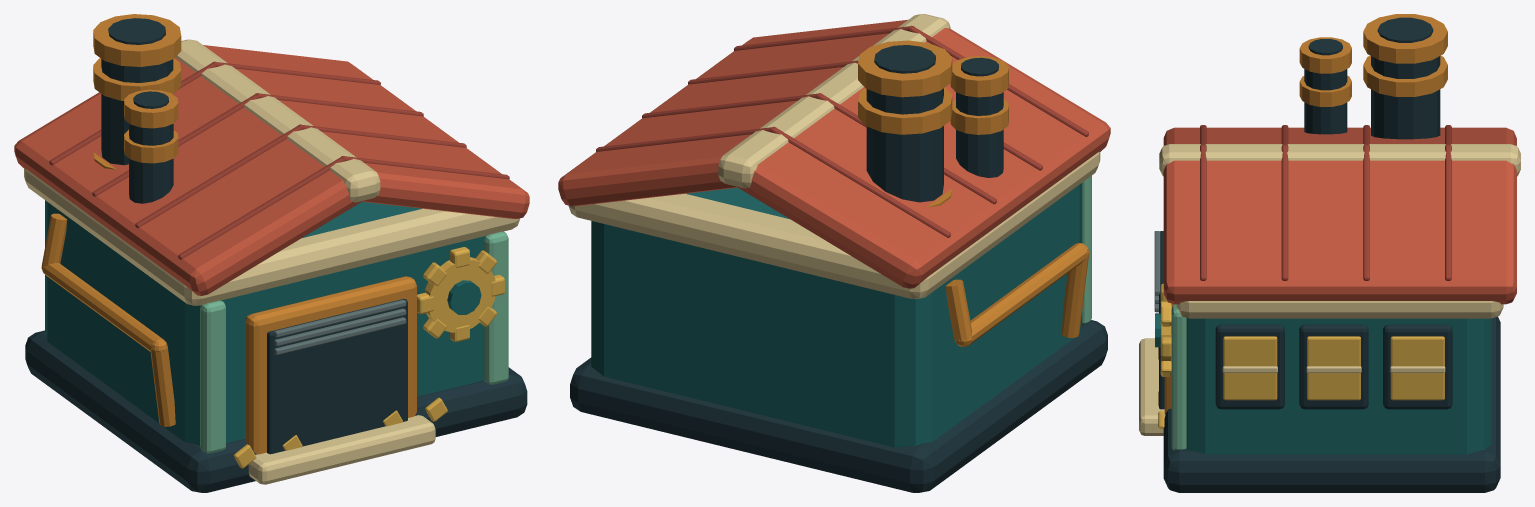
Rendered from PL_BrassWorkshop.glb.
The picture shows the model from 3 angles, left to right: view 1: azimuth 30°, elevation 25°; view 2: azimuth 150°, elevation 25°; view 3: azimuth 270°, elevation 25°; orthographic projection. The views are drawn at different scales.
Parts seen in each view (by area): view 1: ROOT_BrassWorkshop_Surface; view 2: ROOT_BrassWorkshop_Surface; view 3: ROOT_BrassWorkshop_Surface.
Part boxes in pixels (bbox=[...]): ROOT_BrassWorkshop_Surface: bbox=[14, 14, 529, 492]; ROOT_BrassWorkshop_Surface: bbox=[558, 14, 1110, 492]; ROOT_BrassWorkshop_Surface: bbox=[1139, 14, 1520, 492].
Bounding box in the file's own units: 1.88 × 1.86 × 1.87.
